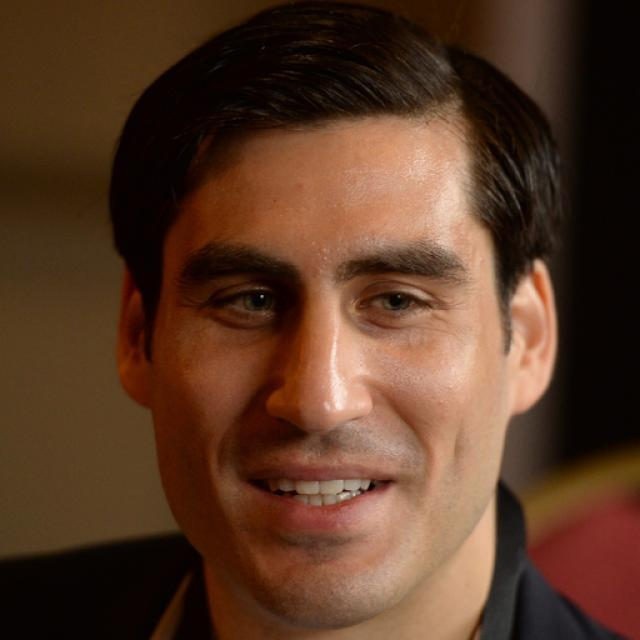content: (155, 94, 510, 624)
